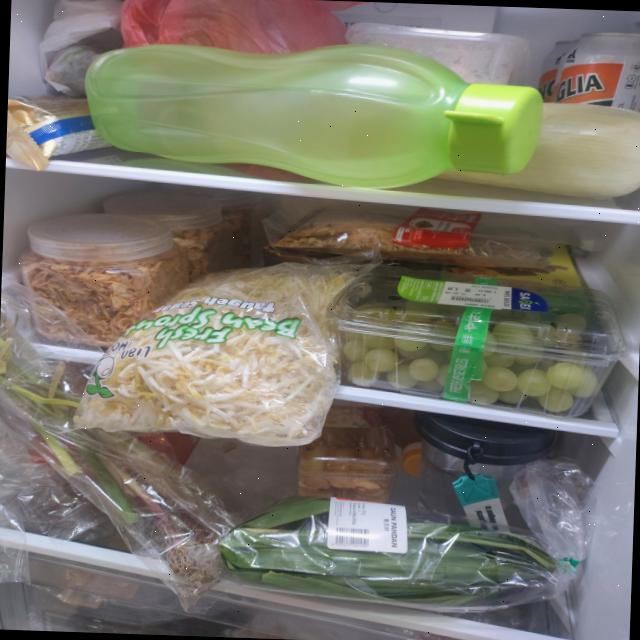bean_sprouts: (72, 252, 356, 449)
corn: (432, 98, 640, 202)
grape: (340, 298, 603, 415)
leafy_greens: (217, 489, 562, 616)
spring_onion: (0, 300, 243, 593)
